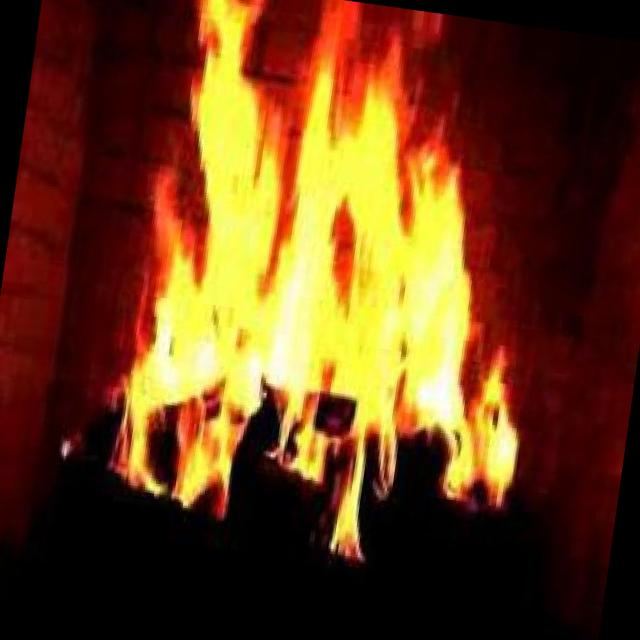Fire: (57, 0, 583, 592)
